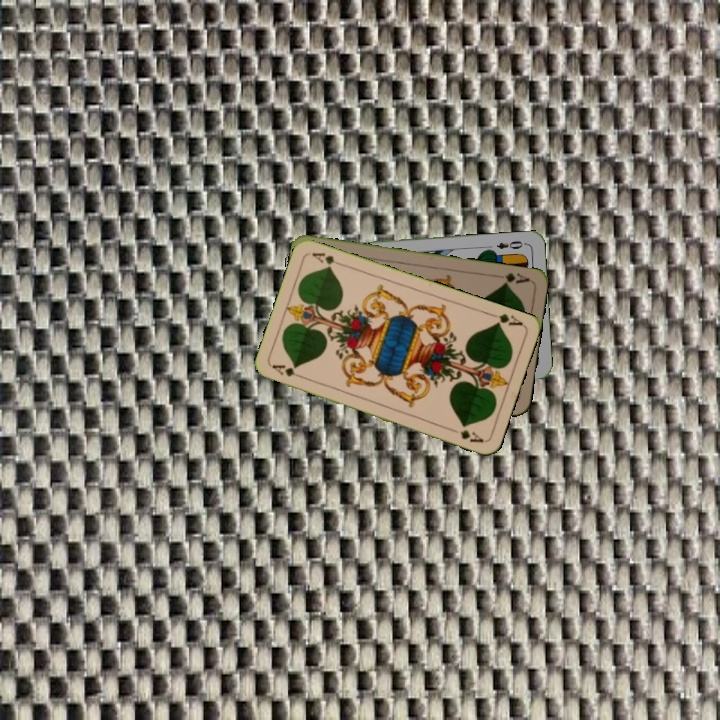EO: (493, 236, 529, 252)
GA: (268, 360, 308, 381), (485, 309, 526, 329), (492, 268, 532, 287)
